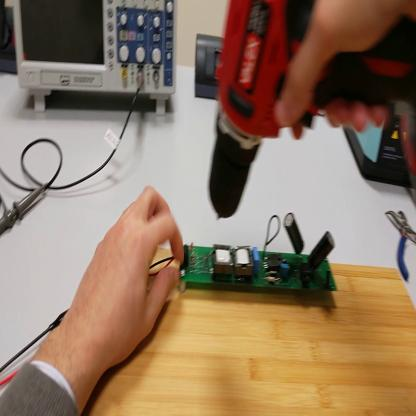electric screwdriver: (208, 3, 416, 240)
hand: (73, 186, 186, 366), (274, 1, 408, 142)
high voltage board: (151, 203, 351, 293)
oscilloscope: (13, 3, 177, 119)
oscilloscope probe tip: (2, 185, 46, 240)
pliers: (387, 205, 416, 285)
socket: (2, 9, 21, 75)
welder station: (342, 124, 414, 192)
working area: (84, 265, 416, 416)
